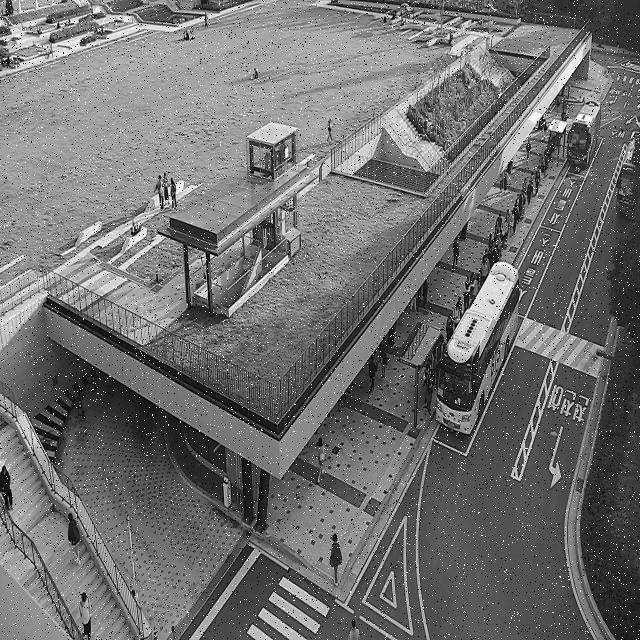queue: (415, 105, 567, 428)
